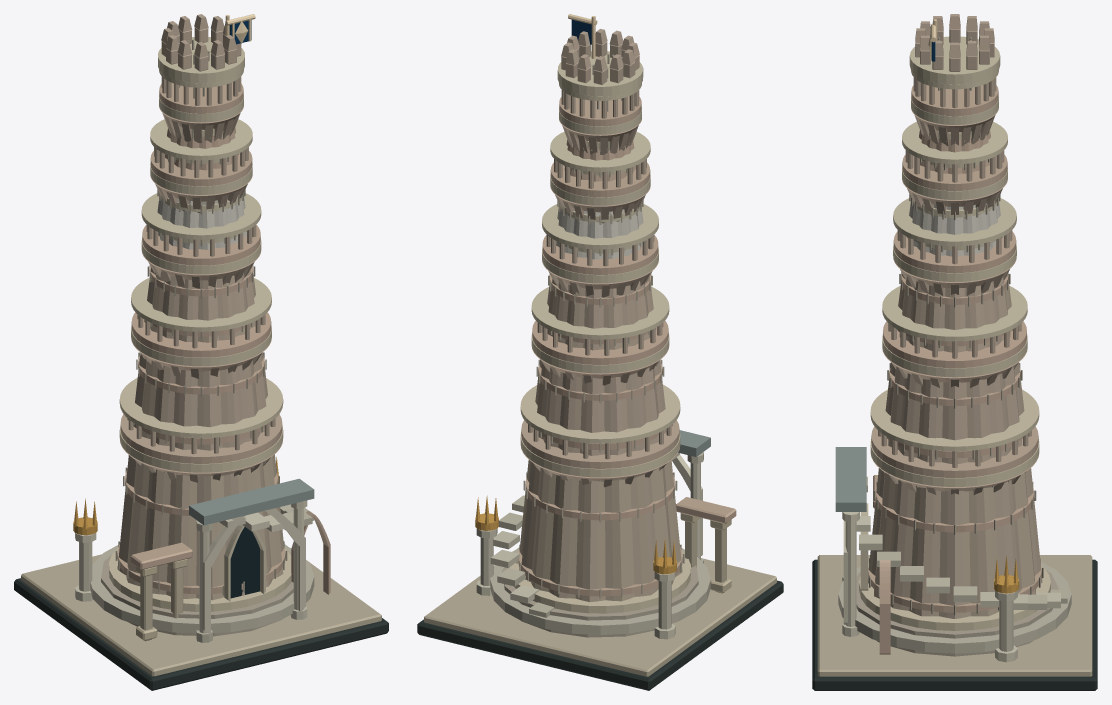
3 renders of one model, left to right at view 1: azimuth 30°, elevation 25°; view 2: azimuth 150°, elevation 25°; view 3: azimuth 270°, elevation 25°, orthographic. The views are drawn at different scales.
Parts seen in each view (by area): view 1: archer_tower_L4_0, archer_tower_L4_1; view 2: archer_tower_L4_0, archer_tower_L4_1; view 3: archer_tower_L4_0, archer_tower_L4_1.
Boxes of the visible parts, x1=… form: archer_tower_L4_0: x1=14, y1=14, x2=388, y2=690; archer_tower_L4_1: x1=73, y1=14, x2=278, y2=535; archer_tower_L4_0: x1=417, y1=19, x2=783, y2=690; archer_tower_L4_1: x1=475, y1=14, x2=676, y2=574; archer_tower_L4_0: x1=812, y1=14, x2=1097, y2=690; archer_tower_L4_1: x1=928, y1=19, x2=1019, y2=593.
Size of the model in its own units: 3.6 by 8.63 by 3.6.
